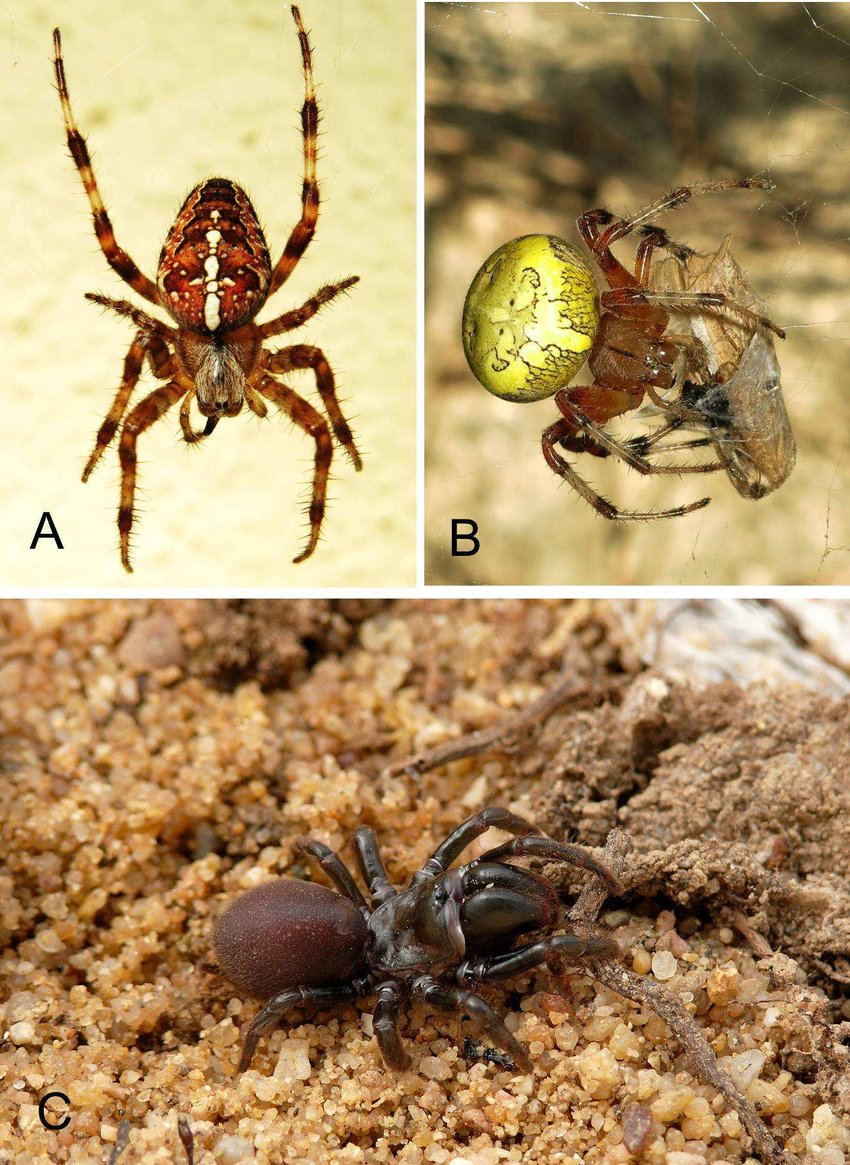spider: (31, 1, 384, 585), (453, 139, 823, 559), (191, 767, 654, 1094)
